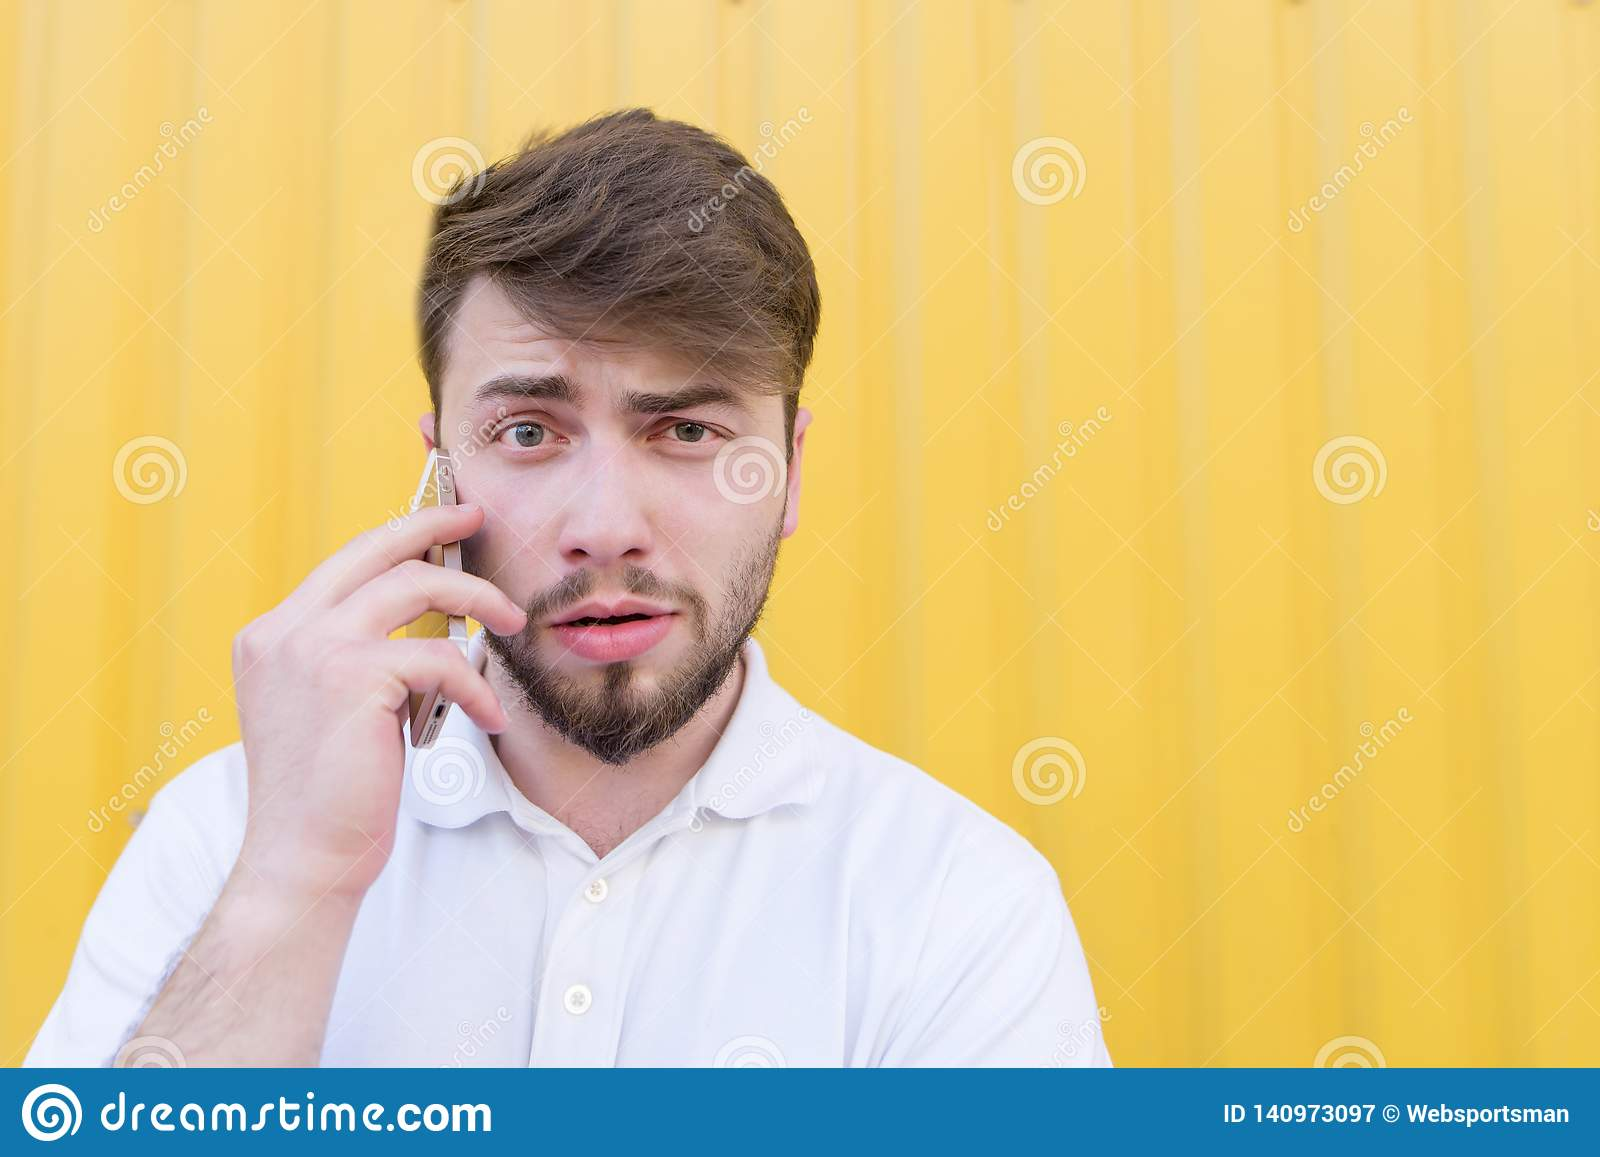phone: (388, 442, 480, 761)
talk: (231, 355, 754, 925)
